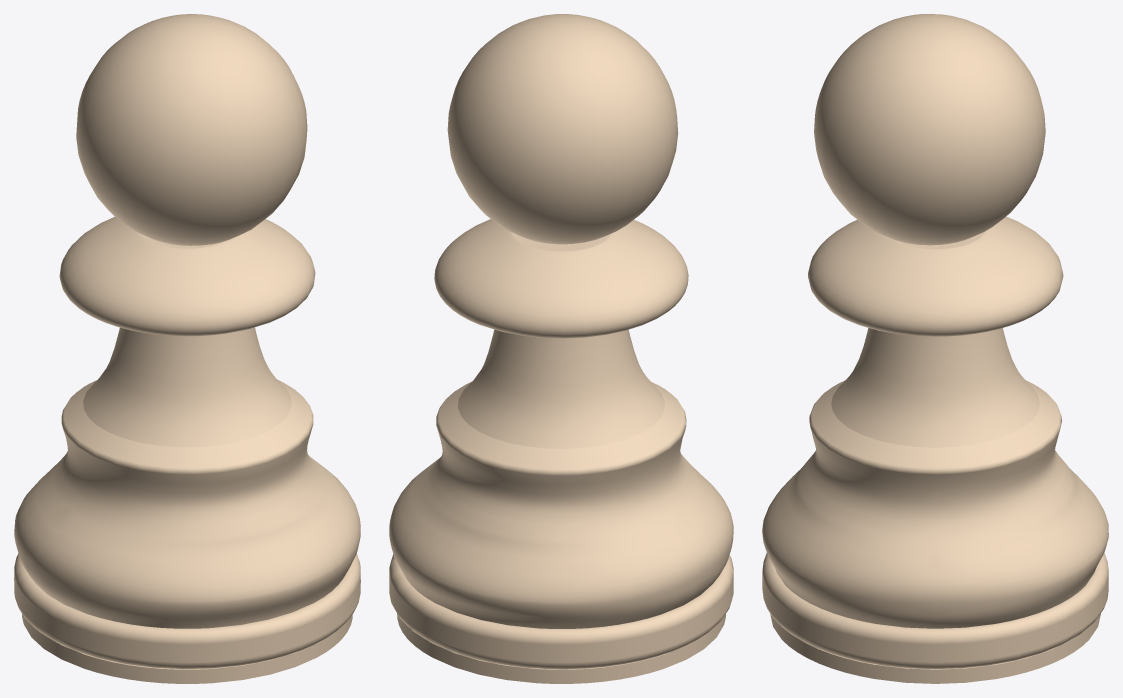
File: pawn.fbx
The picture shows the model from 3 angles, left to right: view 1: azimuth 30°, elevation 25°; view 2: azimuth 150°, elevation 25°; view 3: azimuth 270°, elevation 25°; orthographic projection.
Visible parts, largest first — view 1: pawn; view 2: pawn; view 3: pawn.
Boxes of the visible parts, <box> form: pawn: <box>14,14,360,683</box>; pawn: <box>389,14,733,683</box>; pawn: <box>762,14,1108,683</box>.
Bounding box in the file's own units: 1.54 × 2.9 × 1.54.
